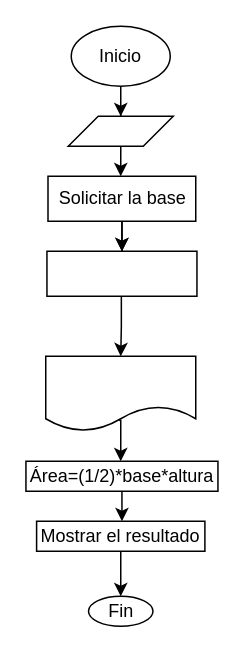
Image size: 245x653. Some labels were removed from this diagram. The shapes that lost their labels are listed below. From the top down, each one's centre as x and y in pixels, then its label:
[120,130]: Leer
[121,273]: Solicitar la altura
[120,393]: "Calcular el área de la base"
